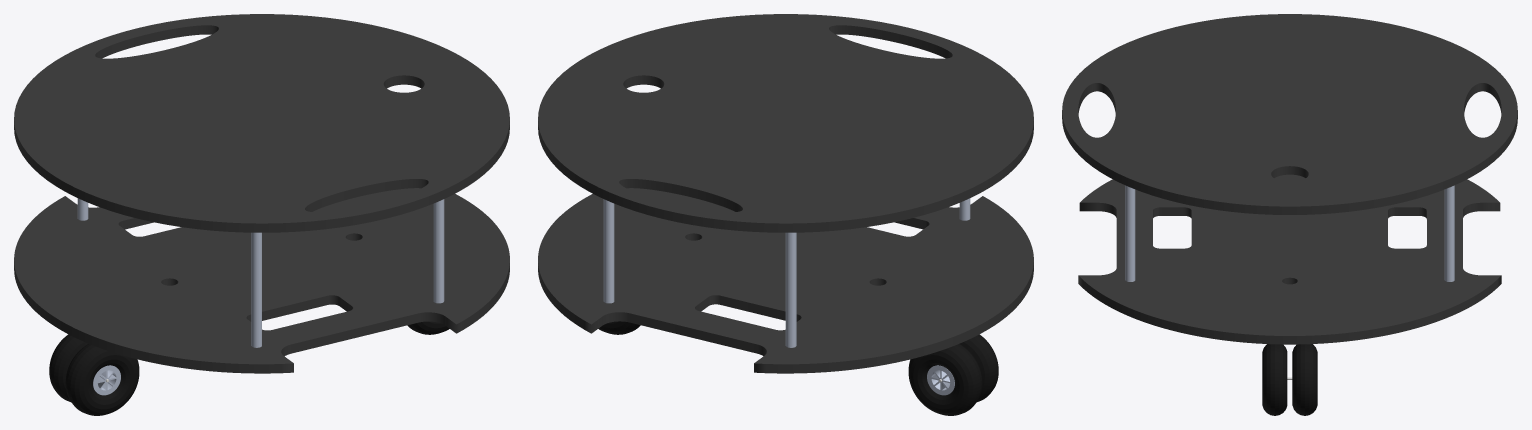
Rendered from arlo_base_altura_ok.dae.
3 views of the same model, side by side, from view 1: azimuth 30°, elevation 25°; view 2: azimuth 150°, elevation 25°; view 3: azimuth 270°, elevation 25° (orthographic). The views are drawn at different scales.
Visible parts, largest first — view 1: tapa_arriba, tapa_abajo, caucho_der.001, poste1, poste4, caucho_izq.001, rim_pequeno_der.001; view 2: tapa_arriba, tapa_abajo, caucho_izq.001, poste2, poste3, caucho_der.001, rim_pequeno_izq.001; view 3: tapa_arriba, tapa_abajo, caucho_der, caucho_izq, poste4, poste3.
Part boxes in pixels (box(x1,y1,x2,y2)): tapa_arriba: box(14, 14, 509, 232); tapa_abajo: box(14, 188, 509, 373); caucho_der.001: box(65, 344, 139, 415); poste1: box(251, 232, 261, 347); poste4: box(433, 199, 444, 303); caucho_izq.001: box(49, 334, 88, 401); rim_pequeno_der.001: box(93, 365, 120, 395); tapa_arriba: box(538, 14, 1033, 232); tapa_abajo: box(538, 188, 1033, 373); caucho_izq.001: box(908, 344, 982, 415); poste2: box(785, 232, 796, 347); poste3: box(603, 199, 614, 303); caucho_der.001: box(959, 334, 998, 401); rim_pequeno_izq.001: box(927, 365, 954, 395); tapa_arriba: box(1062, 14, 1517, 214); tapa_abajo: box(1078, 174, 1501, 344); caucho_der: box(1262, 344, 1287, 415); caucho_izq: box(1292, 344, 1317, 415); poste4: box(1125, 185, 1135, 281); poste3: box(1444, 185, 1454, 281).
Size of the model in its own units: 57.61 by 57.57 by 31.82.
